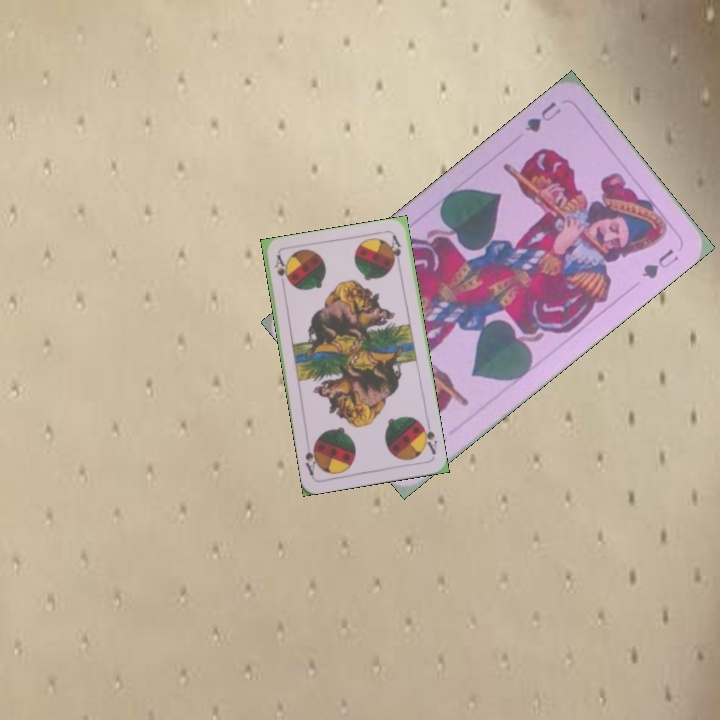GU: (520, 97, 564, 136)
SA: (417, 418, 440, 457), (270, 251, 290, 284)
